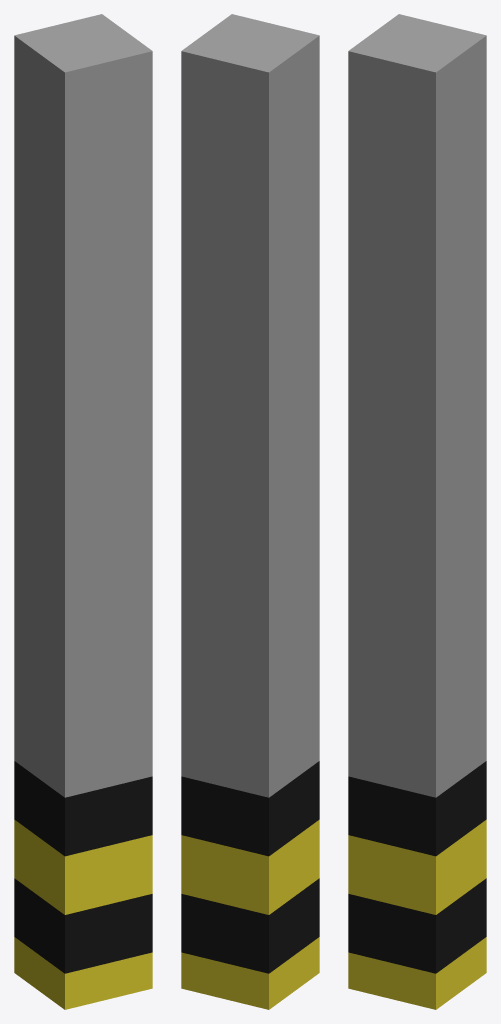
Rendered from pillar.fbx.
3 views of the same model, side by side, from view 1: azimuth 30°, elevation 25°; view 2: azimuth 150°, elevation 25°; view 3: azimuth 330°, elevation 25° (orthographic).
Visible parts, largest first — view 1: Pillar; view 2: Pillar; view 3: Pillar.
Part boxes in pixels (x1,y1,x2,y2): Pillar: (14, 14, 152, 1009); Pillar: (181, 14, 319, 1009); Pillar: (348, 14, 486, 1009).
Size of the model in its own units: 49.68 by 49.68 by 507.
